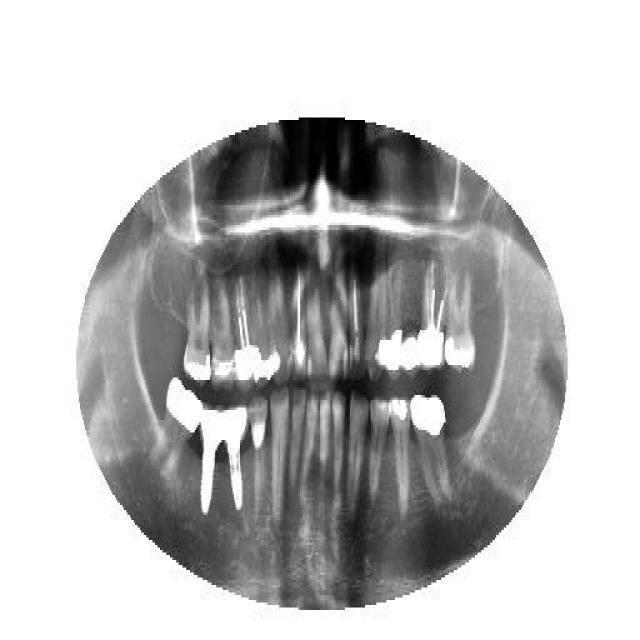Fillings: (148, 375, 202, 480), (406, 390, 452, 505), (444, 260, 476, 375), (182, 275, 212, 383), (364, 258, 385, 380), (390, 395, 410, 523), (384, 255, 401, 380), (254, 282, 272, 388), (401, 310, 419, 375)
Implant: (416, 255, 446, 373), (195, 402, 224, 518), (222, 402, 248, 512), (234, 272, 254, 390), (292, 268, 306, 380)
